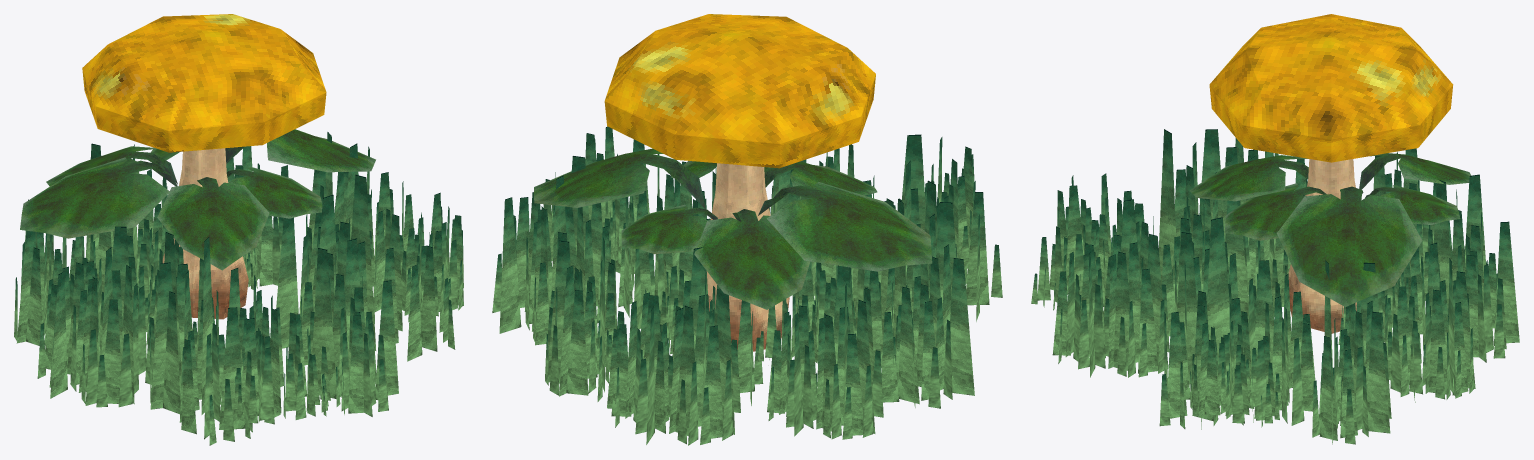
File: prefab_03.glb
The picture shows the model from 3 angles, left to right: view 1: azimuth 30°, elevation 25°; view 2: azimuth 150°, elevation 25°; view 3: azimuth 270°, elevation 25°; orthographic projection. The views are drawn at different scales.
Visible parts, largest first — view 1: PRFB_03; view 2: PRFB_03; view 3: PRFB_03.
Part boxes in pixels (x1,y1,x2,y2): PRFB_03: (14,14,463,445); PRFB_03: (492,14,1002,445); PRFB_03: (1031,14,1519,444).
Size of the model in its own units: 2.55 by 1.81 by 2.58.
Materials: 2 (2 with a texture image).
